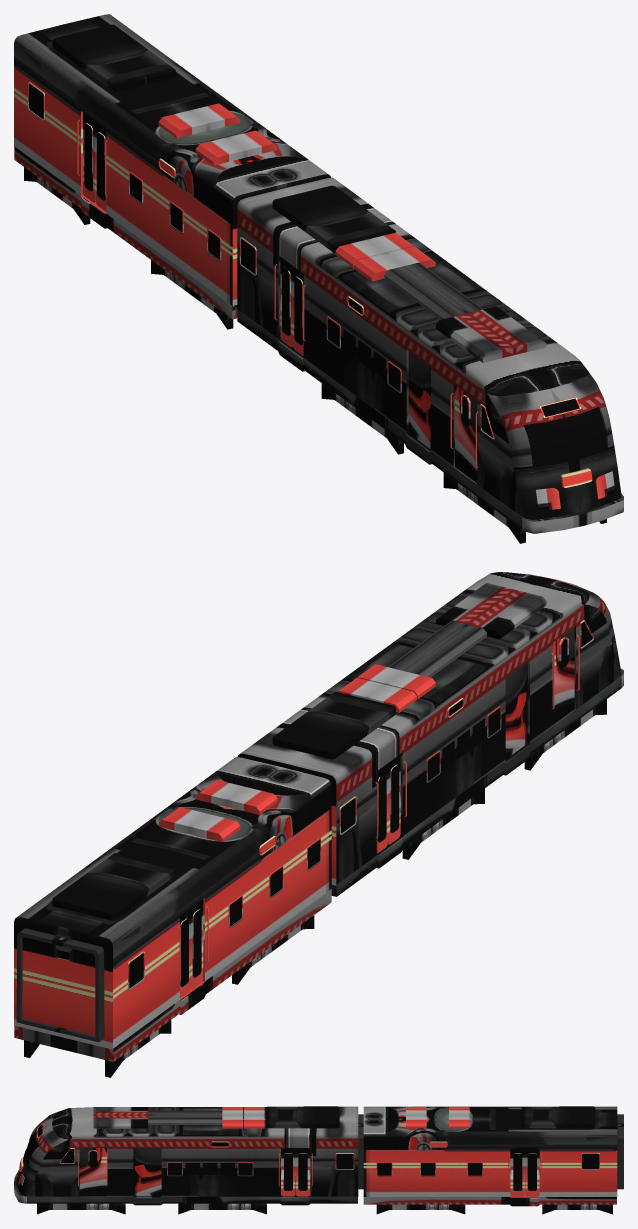
3 renders of one model, top to bottom at view 1: azimuth 30°, elevation 25°; view 2: azimuth 150°, elevation 25°; view 3: azimuth 270°, elevation 25°, orthographic. The views are drawn at different scales.
Parts seen in each view (by area): view 1: Train_Engine, Train_compartment, Door2, Door3; view 2: Train_Engine, Train_compartment, Door3, Door2; view 3: Train_Engine, Train_compartment, Door1, Door.
Boxes of the visible parts, <box> form: Train_Engine: <box>237,177,623,543</box>; Train_compartment: <box>14,14,330,329</box>; Door2: <box>83,112,95,202</box>; Door3: <box>95,121,106,211</box>; Train_Engine: <box>237,572,623,896</box>; Train_compartment: <box>14,757,331,1077</box>; Door3: <box>190,899,203,988</box>; Door2: <box>180,908,190,997</box>; Train_Engine: <box>14,1106,363,1214</box>; Train_compartment: <box>363,1106,623,1214</box>; Door1: <box>525,1148,539,1196</box>; Door: <box>510,1148,524,1196</box>.
Bounding box in the file's own units: 35.17 × 48.49 × 307.
